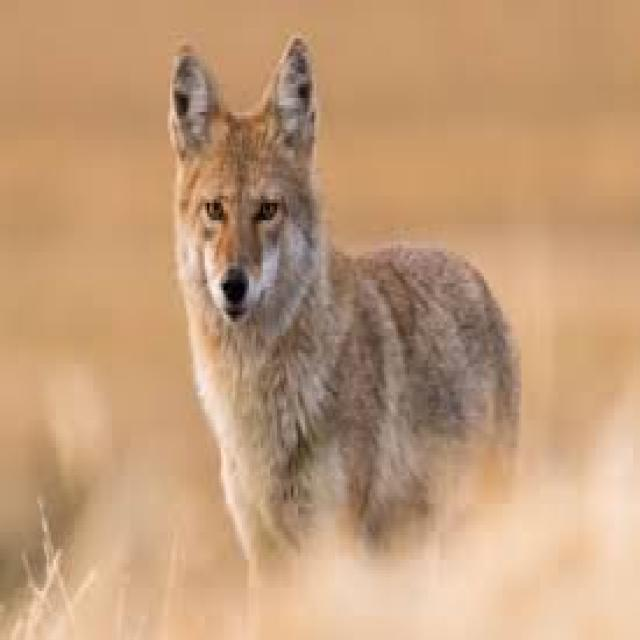Coyote: (165, 28, 530, 590)
